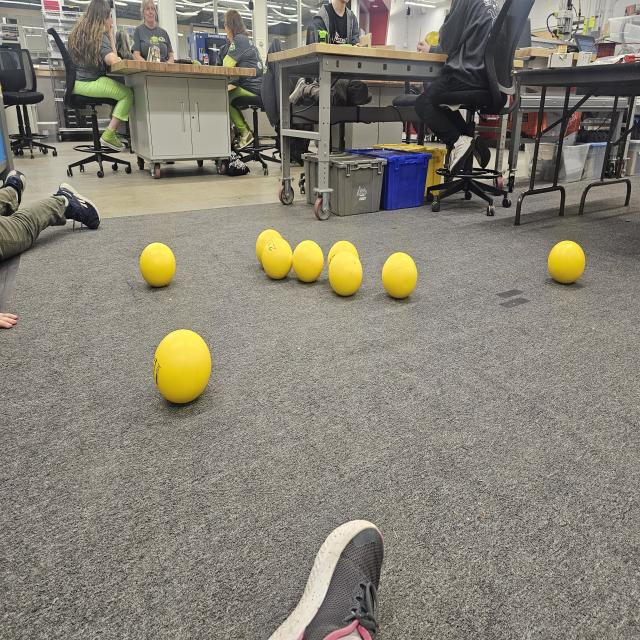Fuel: (153, 328, 211, 404), (549, 240, 586, 284), (141, 243, 176, 287), (384, 252, 417, 297), (291, 239, 324, 282), (329, 252, 362, 295), (263, 236, 292, 278), (330, 242, 359, 276), (257, 228, 282, 264)
